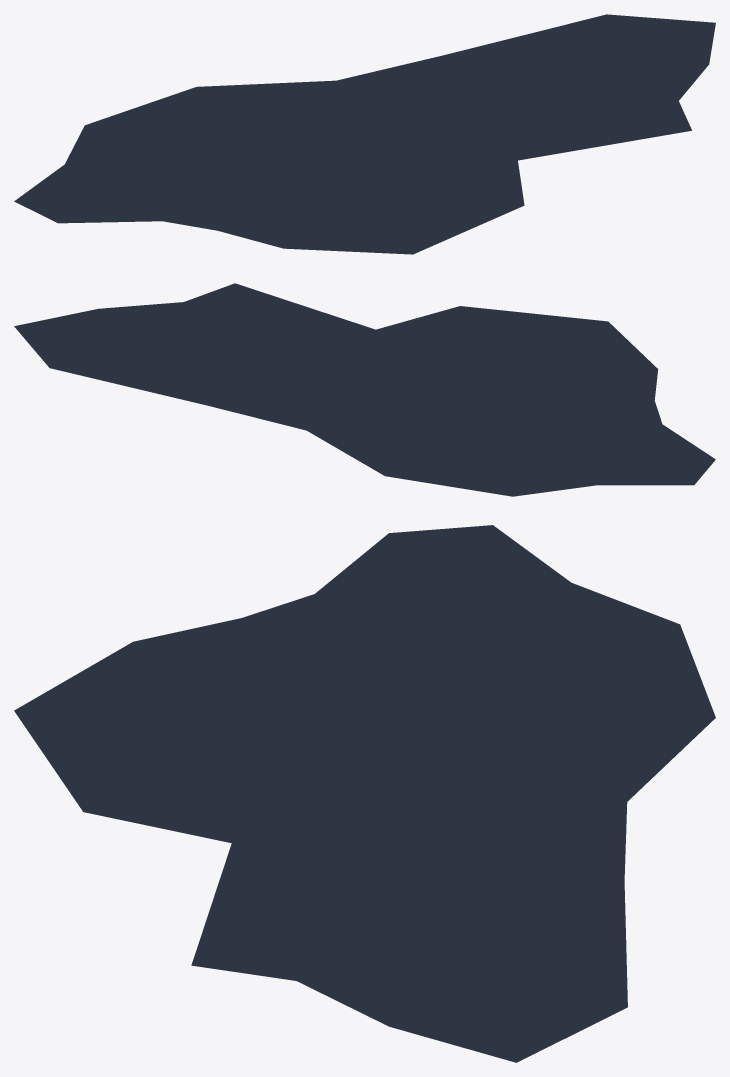
The model's file is puddle_b.glb.
3 renders of one model, top to bottom at view 1: azimuth 30°, elevation 25°; view 2: azimuth 150°, elevation 25°; view 3: azimuth 270°, elevation 25°, orthographic. The views are drawn at different scales.
Parts seen in each view (by area): view 1: puddle_b; view 2: puddle_b; view 3: puddle_b.
Part boxes in pixels (x1,y1,x2,y2): puddle_b: (14, 14, 715, 254); puddle_b: (14, 283, 715, 496); puddle_b: (14, 525, 715, 1062).
Size of the model in its own units: 5.11 by 0 by 2.82.
